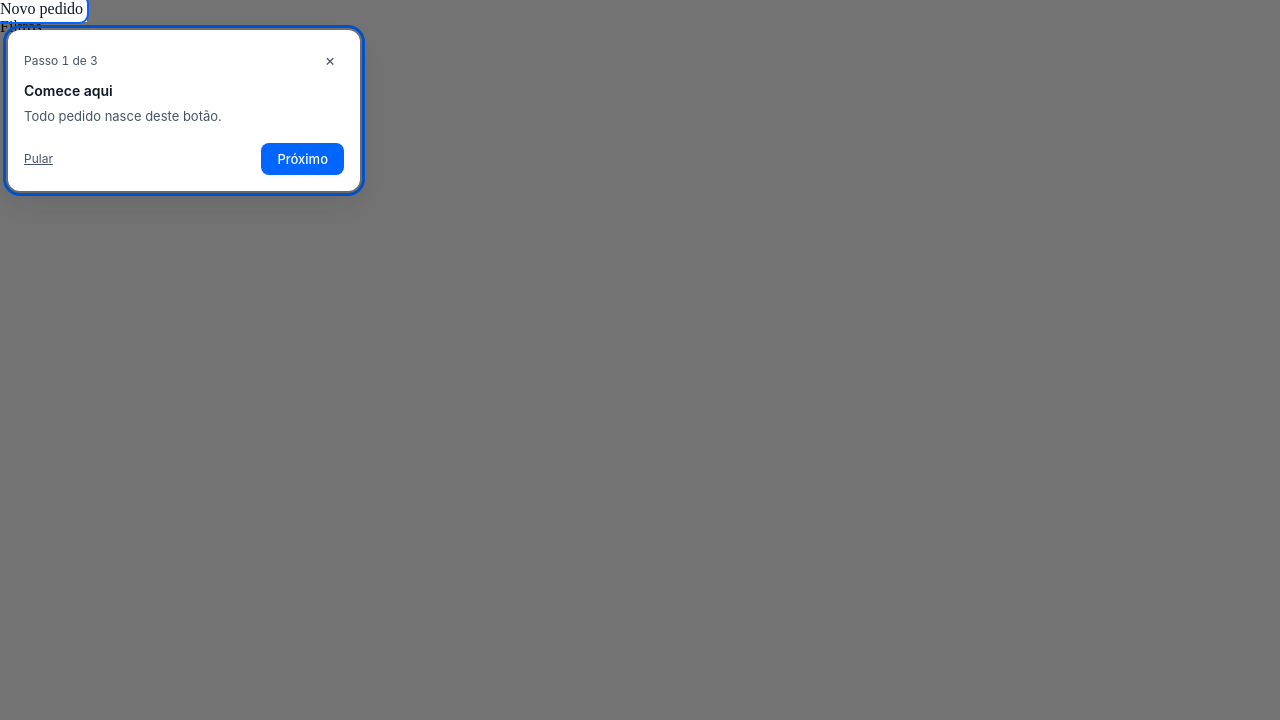
Test: Tour › walks forward and back with the buttons
Step 1. Click the button "Próximo" → (303, 158), box [261,142,344,174]
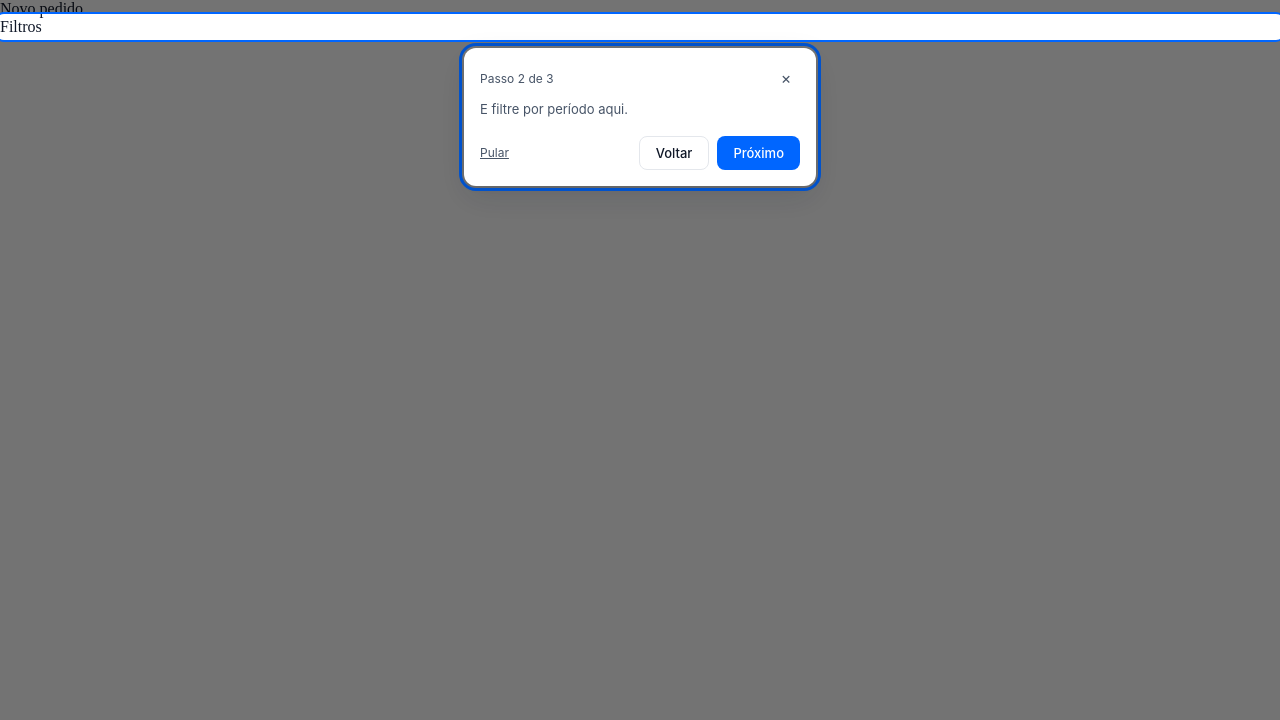
Result: the text "Passo 2 de 3" is shown at [480,70,554,86]
Step 2. Click the button "Voltar" → (674, 152), box [639,136,709,170]
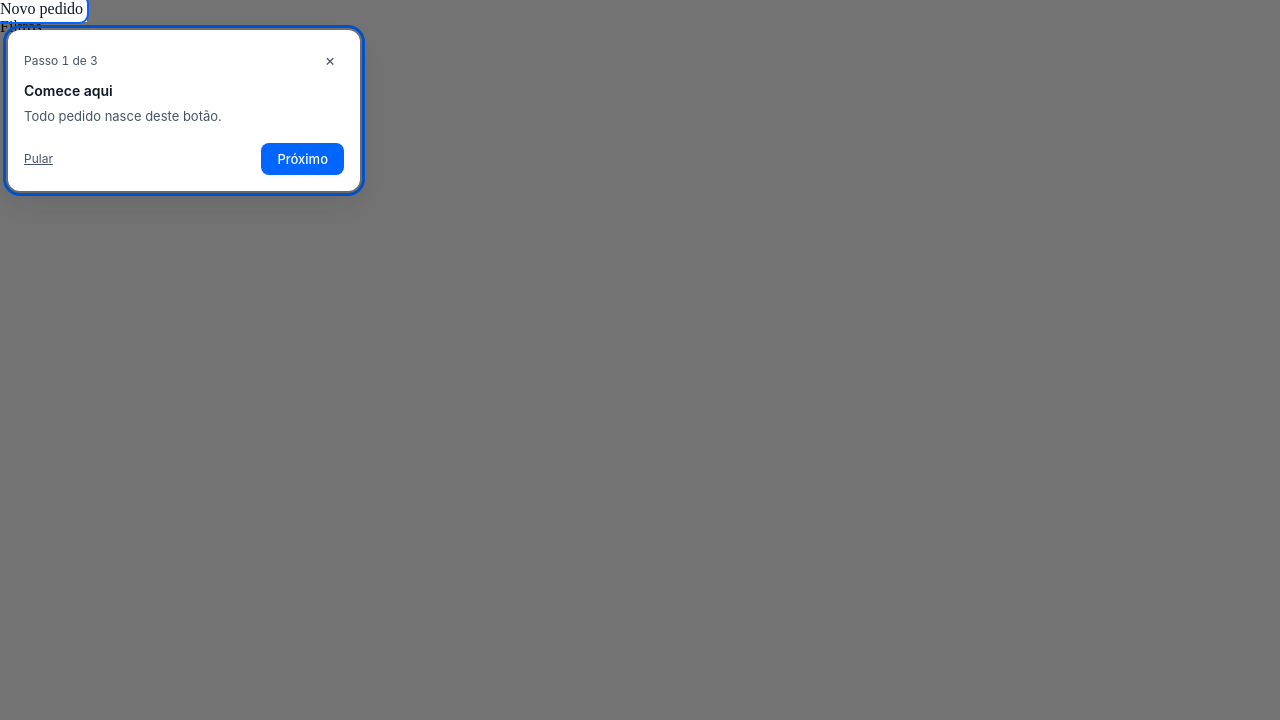
Result: the text "Passo 1 de 3" is shown at [24,52,98,68]
